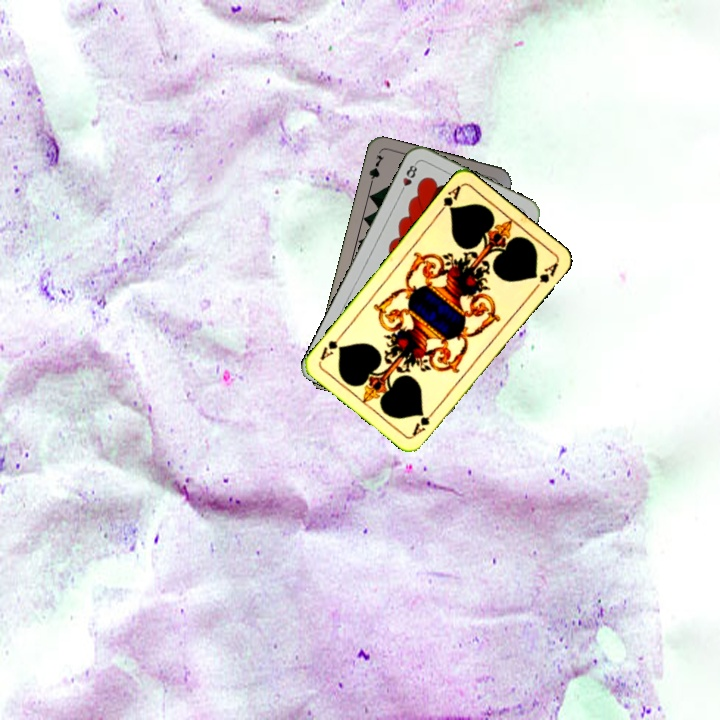G7: (365, 150, 387, 190)
GA: (408, 404, 439, 439), (434, 181, 464, 217)
H8: (396, 159, 420, 197)
